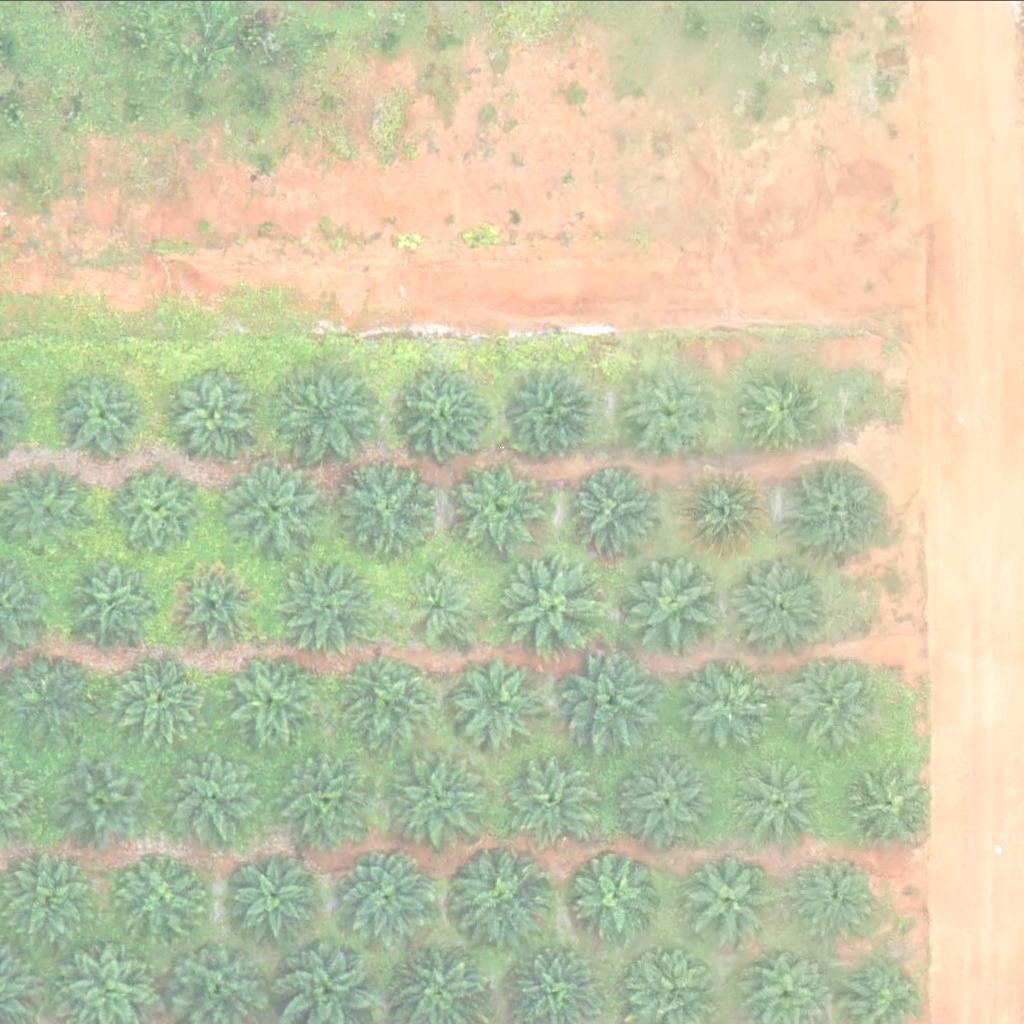Kelapa_Sawit: (504, 549, 605, 649), (224, 649, 325, 749), (340, 648, 441, 748), (564, 650, 665, 750), (160, 743, 261, 843), (277, 746, 378, 846), (386, 747, 487, 847), (503, 748, 604, 848), (619, 750, 720, 850), (337, 847, 438, 947), (450, 842, 551, 942), (777, 653, 878, 753), (625, 551, 726, 651), (729, 553, 830, 653), (783, 454, 884, 554), (274, 364, 374, 464), (226, 459, 326, 559), (340, 457, 440, 557), (278, 554, 378, 654), (60, 752, 148, 840), (59, 367, 147, 455), (169, 366, 257, 454), (456, 459, 544, 547), (566, 465, 654, 553), (116, 652, 204, 740), (574, 852, 662, 940), (687, 852, 775, 940), (793, 850, 881, 938), (733, 754, 821, 842), (843, 757, 931, 845), (677, 465, 765, 553), (740, 360, 828, 448), (1, 462, 89, 549), (73, 557, 161, 644), (406, 367, 494, 454), (503, 366, 591, 453), (629, 367, 717, 454), (112, 465, 200, 552), (170, 561, 258, 648), (452, 658, 540, 745), (119, 853, 207, 940), (234, 850, 322, 937), (680, 651, 768, 738), (406, 567, 482, 642)
